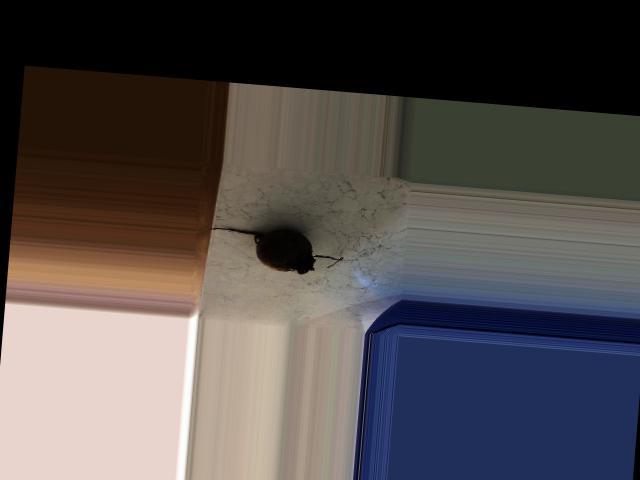beet: (203, 223, 344, 276)
